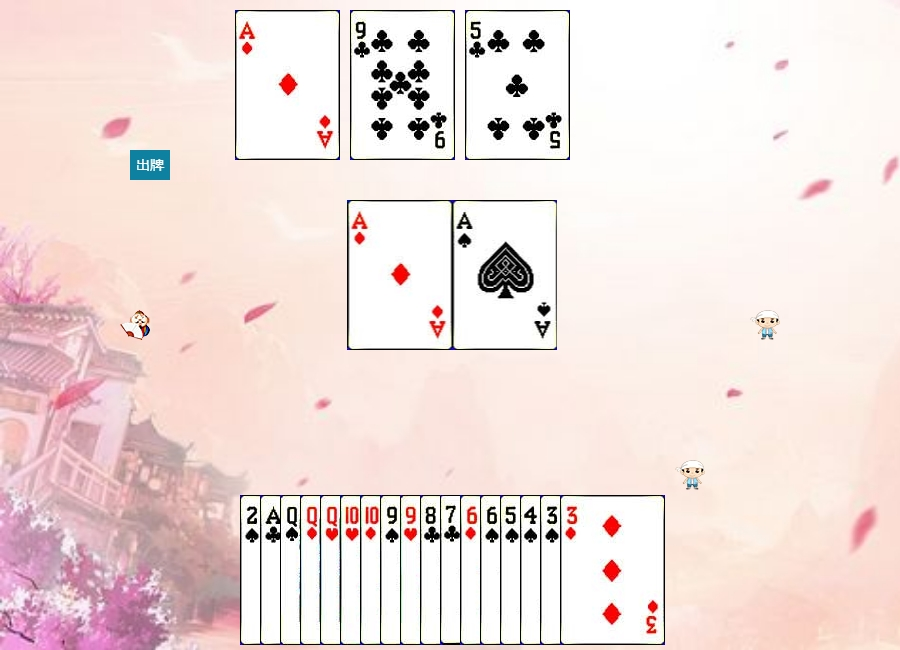10~1: (360, 495, 465, 645)
10~3: (340, 495, 445, 645)
12~1: (300, 495, 405, 645)
12~3: (320, 495, 425, 645)
12~4: (280, 495, 385, 645)
14~1: (235, 10, 340, 160), (348, 200, 453, 350)
14~2: (260, 495, 365, 645)
14~4: (453, 200, 558, 350)
15~4: (240, 495, 345, 645)
3~1: (560, 495, 665, 645)
3~4: (540, 495, 645, 645)
4~4: (520, 495, 625, 645)
5~2: (465, 10, 570, 160)
5~4: (500, 495, 605, 645)
6~1: (460, 495, 565, 645)
6~4: (480, 495, 585, 645)
7~2: (440, 495, 545, 645)
8~2: (420, 495, 525, 645)
9~2: (350, 10, 455, 160)
9~3: (400, 495, 505, 645)
9~4: (380, 495, 485, 645)
